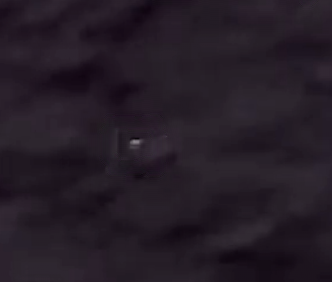Target: (131, 141, 139, 143)
